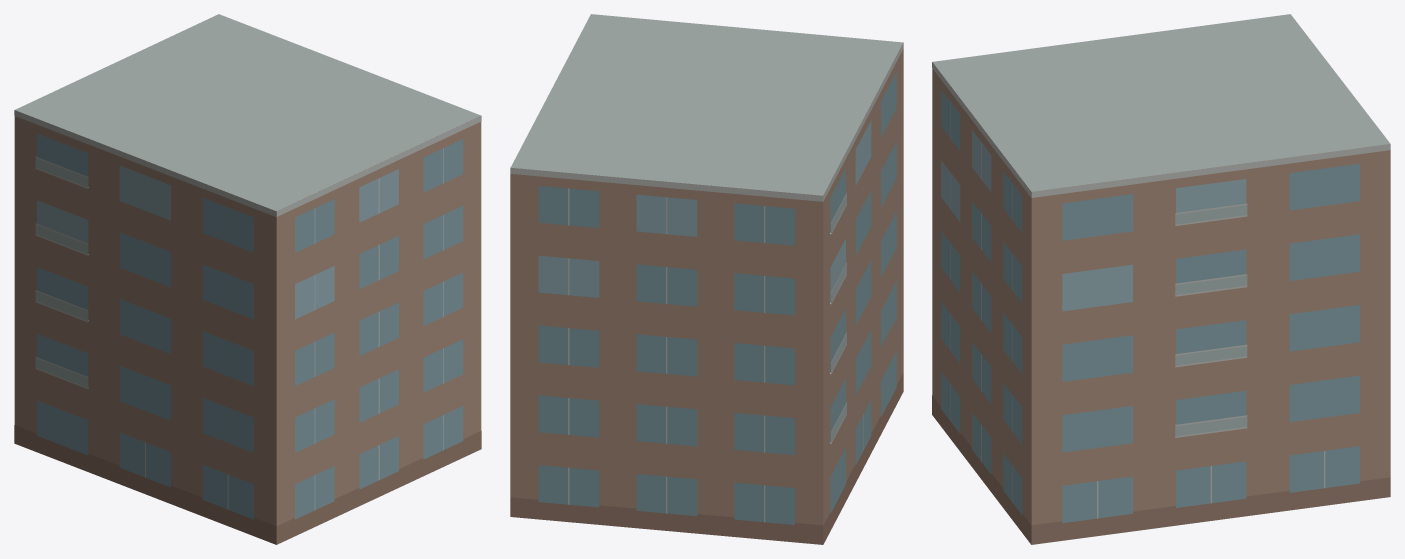
The model's file is survey-upis-32867928.glb.
3 views of the same model, side by side, from view 1: azimuth 30°, elevation 25°; view 2: azimuth 150°, elevation 25°; view 3: azimuth 270°, elevation 25° (orthographic). The views are drawn at different scales.
Parts seen in each view (by area): view 1: survey-upis-32867928.tmp; view 2: survey-upis-32867928.tmp; view 3: survey-upis-32867928.tmp.
Boxes of the visible parts, x1,y1,x2,y2 form: survey-upis-32867928.tmp: (14,14,481,544); survey-upis-32867928.tmp: (510,14,903,544); survey-upis-32867928.tmp: (932,14,1390,544).
Size of the model in its own units: 15.14 by 14 by 16.49.
